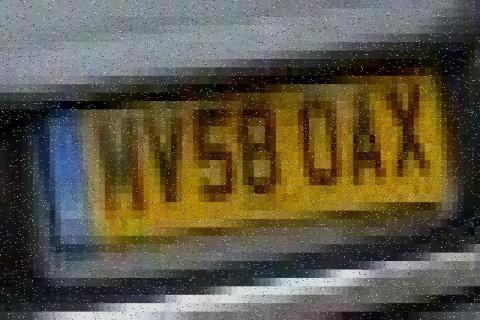LicensePlate: (36, 69, 464, 239)
